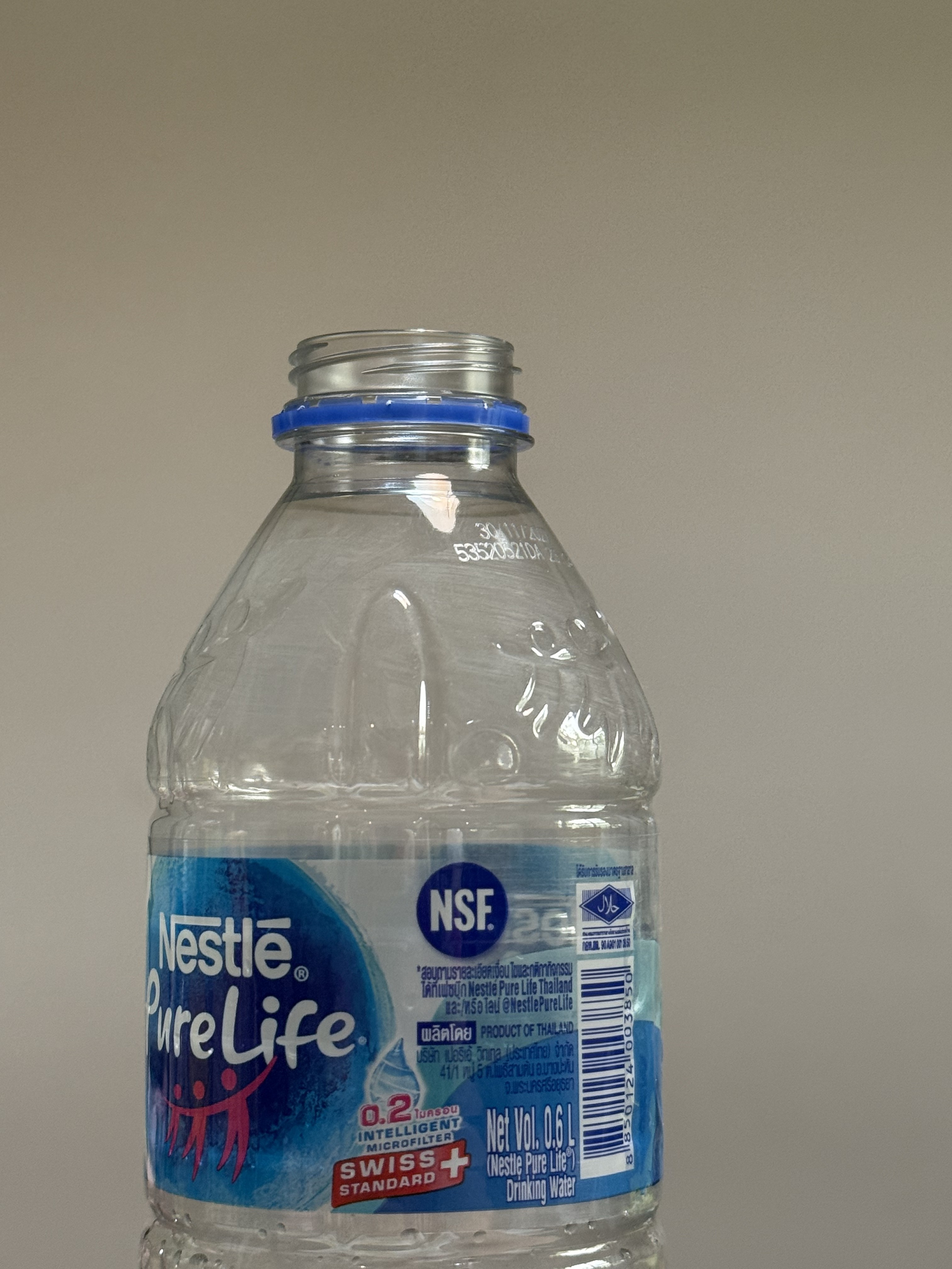no_cap: (268, 325, 533, 444)
